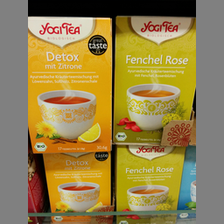tea: (28, 15, 112, 155), (114, 13, 196, 146), (114, 144, 187, 224), (43, 152, 112, 224)
